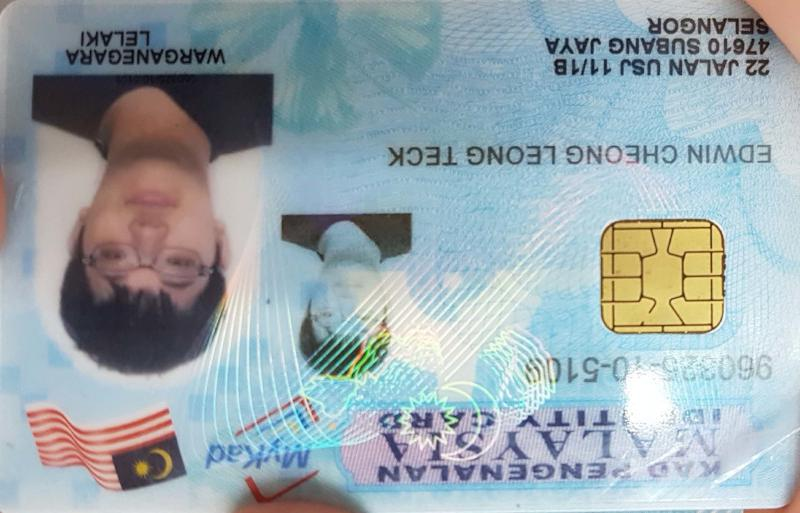hologram: (416, 176, 600, 323)
